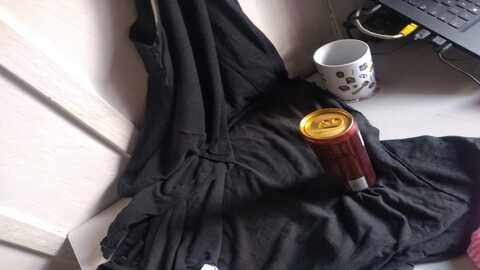duplo_malte: (295, 113, 384, 198)
